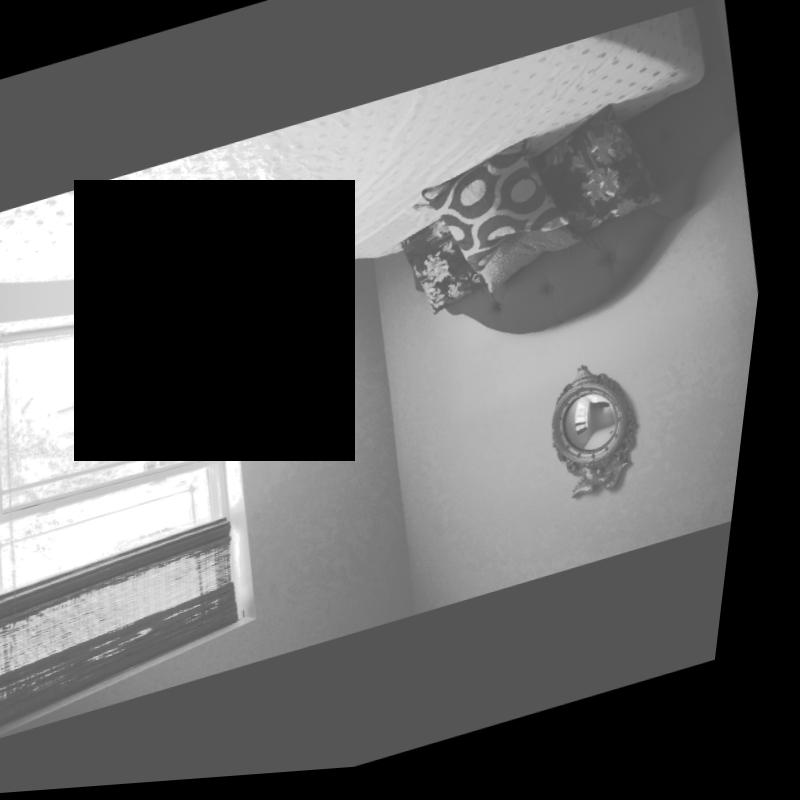pillow: (408, 141, 594, 299), (520, 100, 688, 272), (385, 221, 498, 341), (473, 232, 596, 302)
